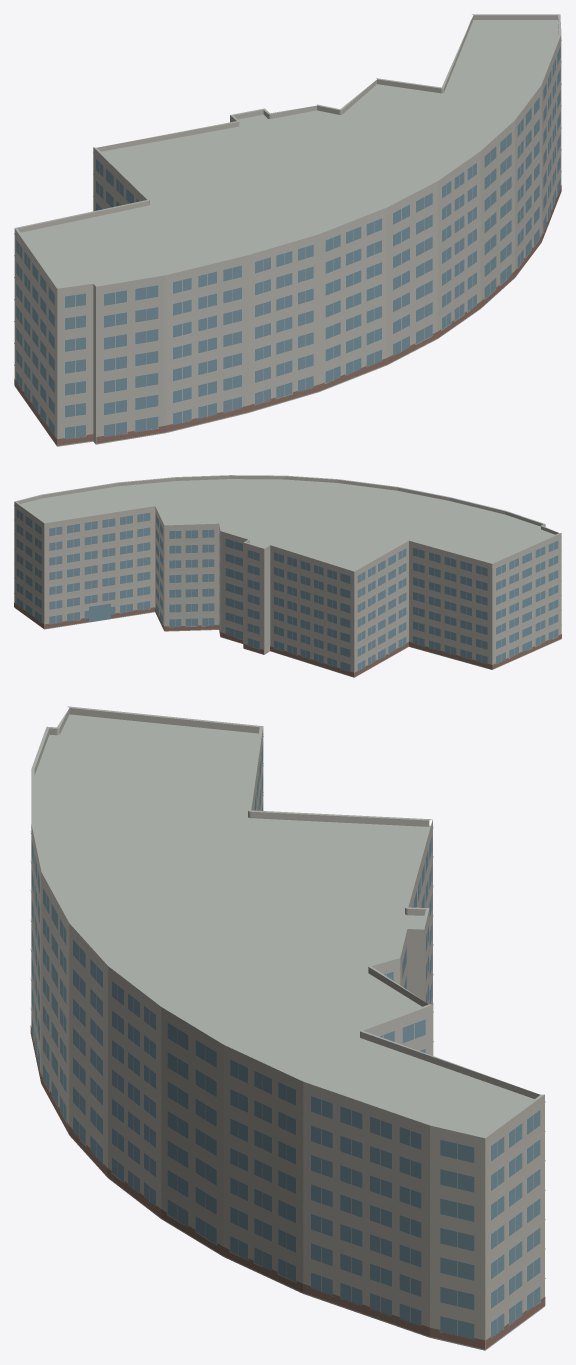
The model's file is public-fd963198-4f38-4c0c-b98c-33e196aebba6.glb.
The picture shows the model from 3 angles, top to bottom: view 1: azimuth 30°, elevation 25°; view 2: azimuth 150°, elevation 25°; view 3: azimuth 270°, elevation 25°; orthographic projection. The views are drawn at different scales.
Visible parts, largest first — view 1: public-fd963198-4f38-4c0c-b98c-33e196aebba6; view 2: public-fd963198-4f38-4c0c-b98c-33e196aebba6; view 3: public-fd963198-4f38-4c0c-b98c-33e196aebba6.
Part boxes in pixels (<box>): public-fd963198-4f38-4c0c-b98c-33e196aebba6: <box>14,14,561,446</box>; public-fd963198-4f38-4c0c-b98c-33e196aebba6: <box>14,475,561,677</box>; public-fd963198-4f38-4c0c-b98c-33e196aebba6: <box>30,706,545,1350</box>.
Bounding box in the file's own units: 93.32 × 21.35 × 46.94.
